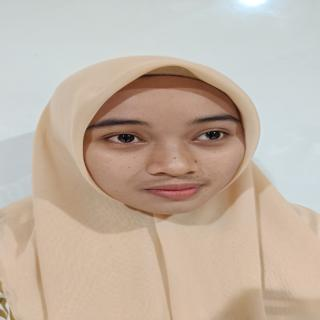Netral: (85, 64, 258, 228)
